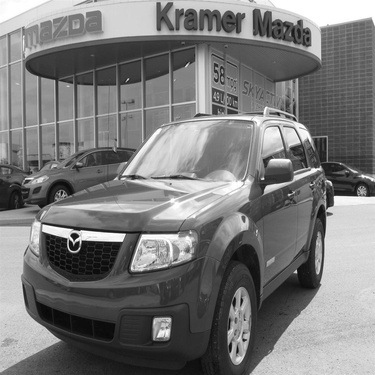car: (26, 112, 337, 373), (30, 143, 144, 212), (316, 158, 373, 202), (20, 156, 60, 207), (4, 159, 31, 210)
